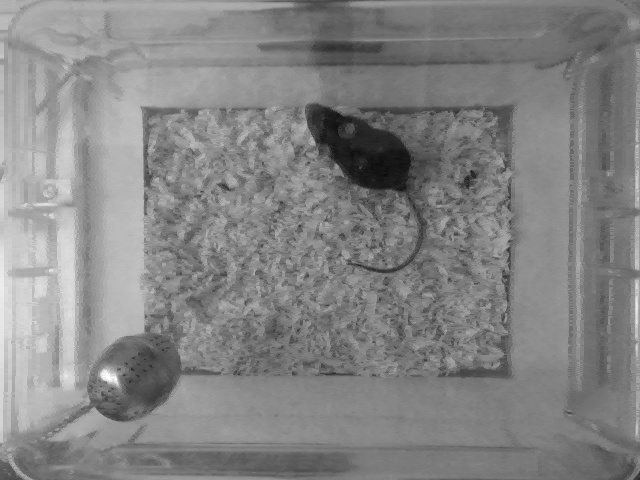mice: (300, 102, 426, 272)
